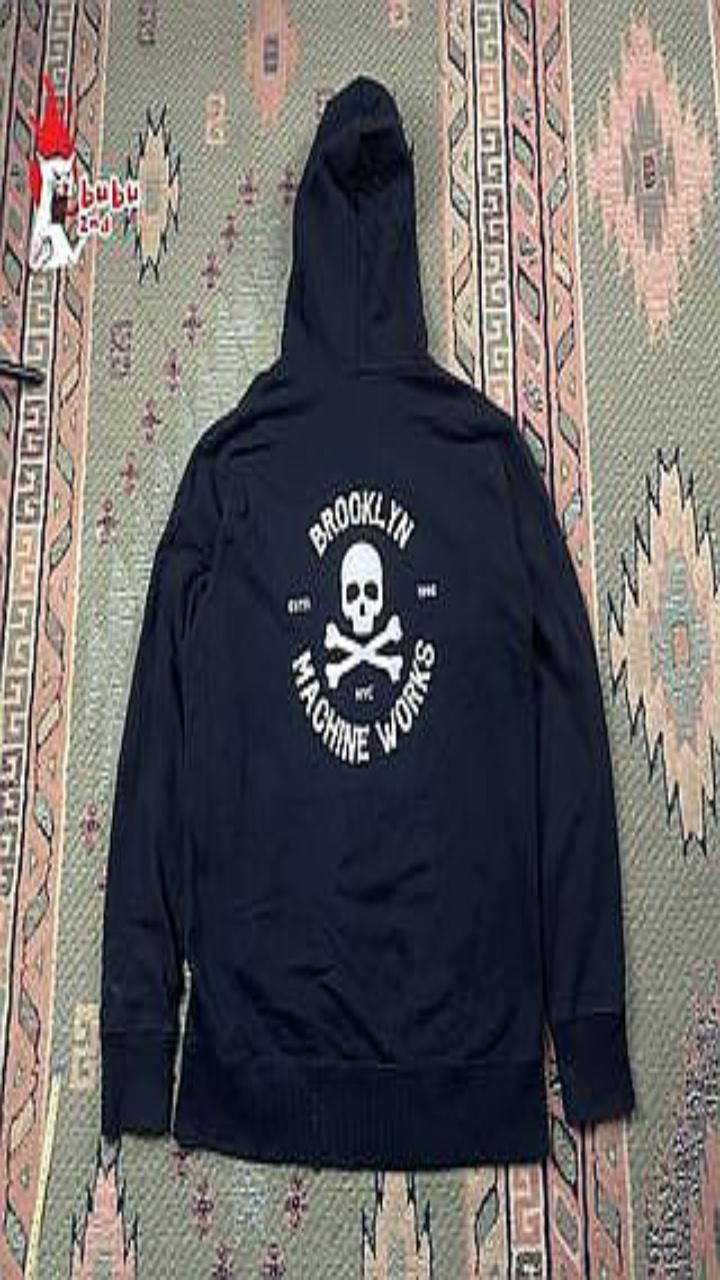Hoodie: (102, 76, 633, 1168)
